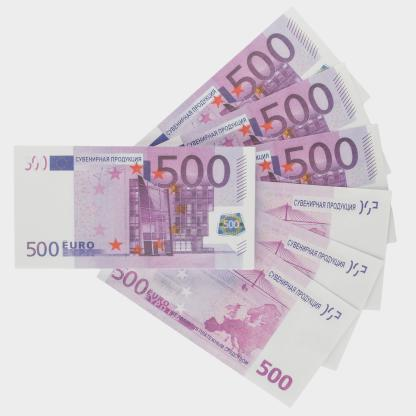euro_banknote: (16, 148, 257, 270), (109, 235, 348, 356), (149, 62, 359, 183), (261, 135, 392, 253), (160, 103, 367, 170)
